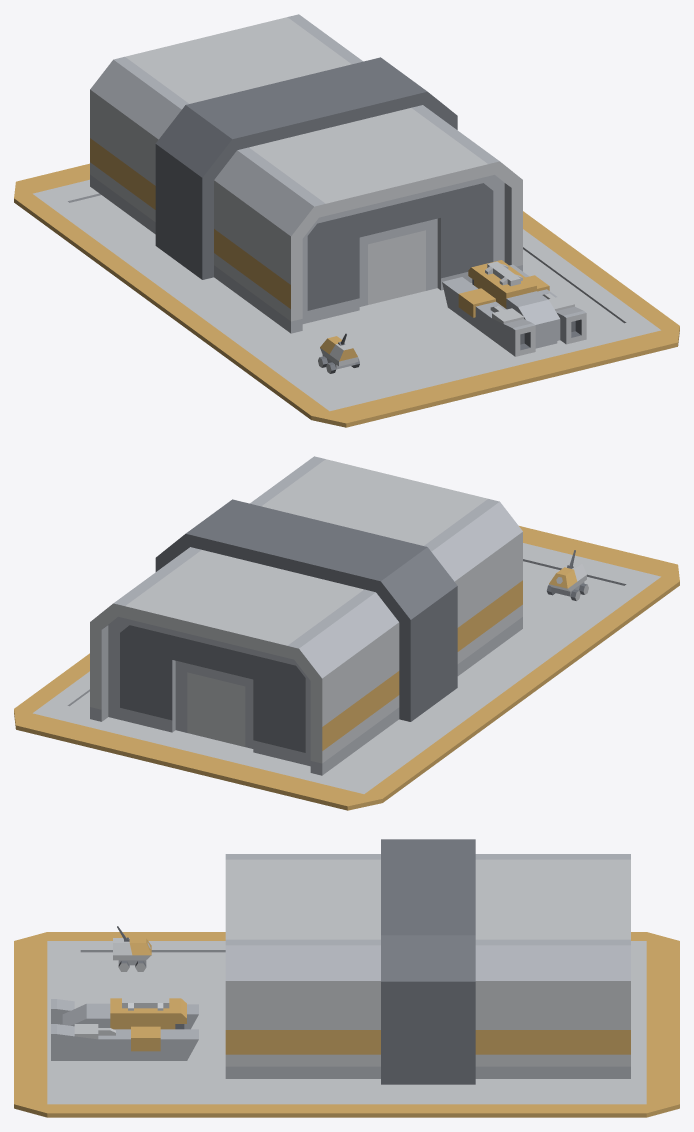
3 views of the same model, one above another, from view 1: azimuth 30°, elevation 25°; view 2: azimuth 150°, elevation 25°; view 3: azimuth 270°, elevation 25° (orthographic).
Visible parts, largest first — view 1: Hangar; view 2: Hangar; view 3: Hangar.
Boxes of the visible parts, x1,y1,x2,y2 form: Hangar: [14, 14, 679, 427]; Hangar: [14, 456, 679, 810]; Hangar: [14, 839, 679, 1117].
Bounding box in the file's own units: 11.6 × 4.16 × 18.
